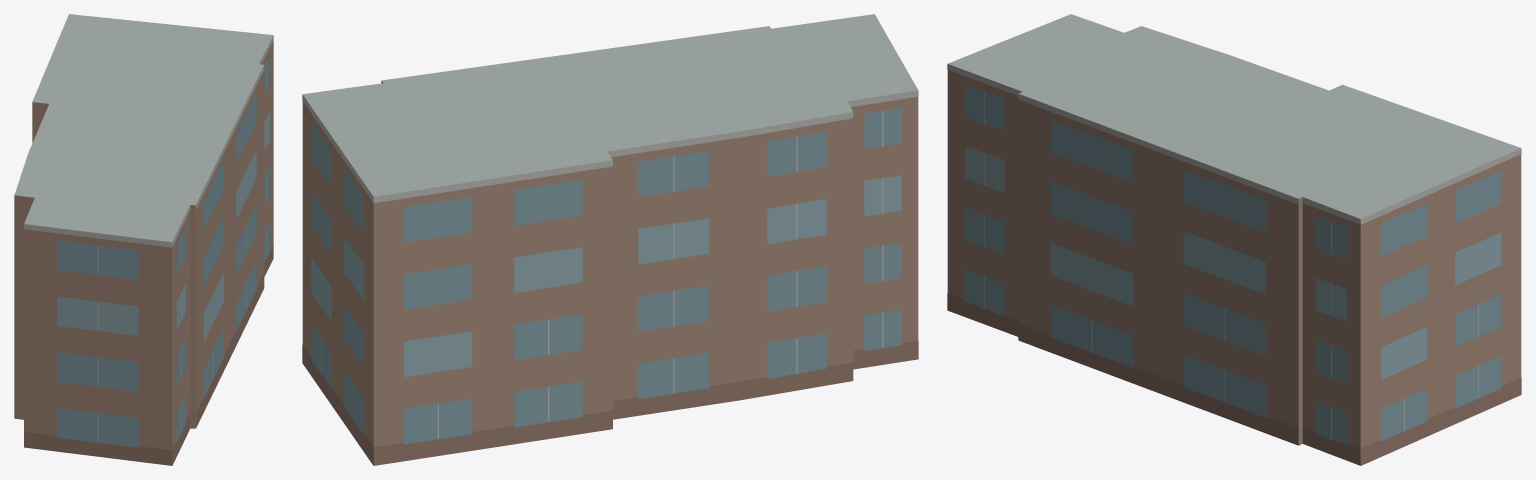
Rendered from survey-upis-32655175.glb.
The picture shows the model from 3 angles, left to right: view 1: azimuth 30°, elevation 25°; view 2: azimuth 150°, elevation 25°; view 3: azimuth 270°, elevation 25°; orthographic projection. The views are drawn at different scales.
Visible parts, largest first — view 1: survey-upis-32655175.tmp; view 2: survey-upis-32655175.tmp; view 3: survey-upis-32655175.tmp.
Boxes of the visible parts, box(x1,y1,x2,y2) form: survey-upis-32655175.tmp: box(14, 14, 273, 465); survey-upis-32655175.tmp: box(302, 14, 918, 465); survey-upis-32655175.tmp: box(947, 14, 1521, 465).
Size of the model in its own units: 18.55 by 10.4 by 21.93.
